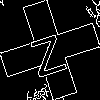Z: (25, 25, 68, 78)
